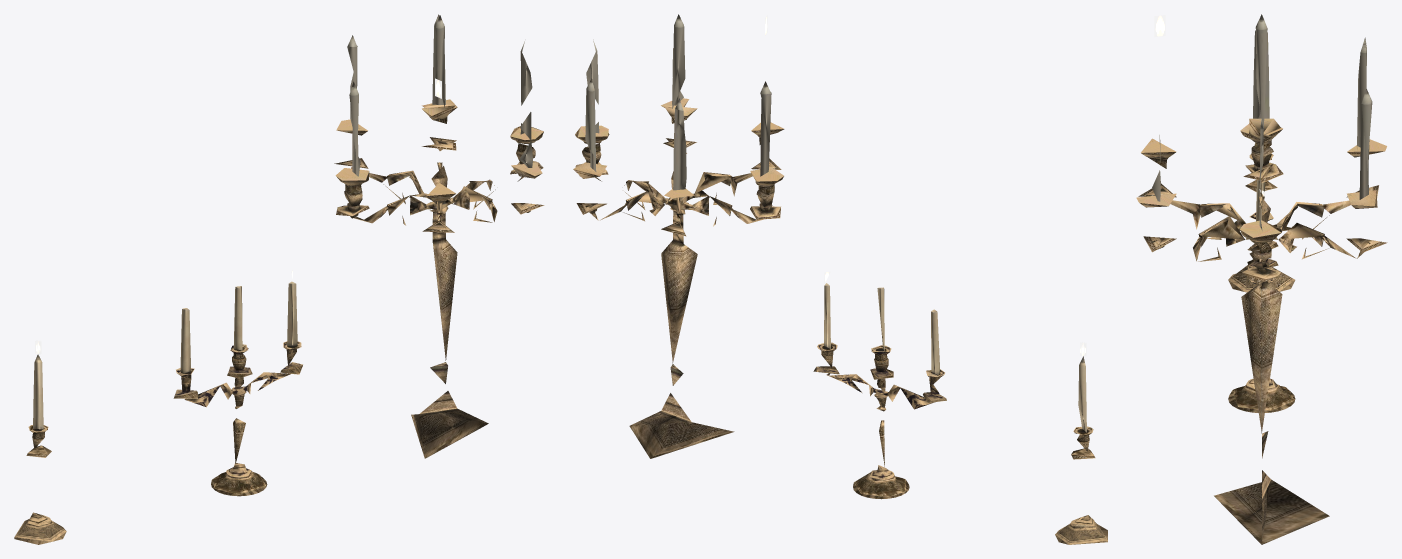
Rendered from brass_candleholders.glb.
3 renders of one model, left to right at view 1: azimuth 30°, elevation 25°; view 2: azimuth 150°, elevation 25°; view 3: azimuth 270°, elevation 25°, orthographic. The views are drawn at different scales.
Visible parts, largest first — view 1: brass_candleholder_03, brass_candleholder_02, brass_candleholder_01; view 2: brass_candleholder_03, brass_candleholder_02, brass_candleholder_01; view 3: brass_candleholder_03, brass_candleholder_02, brass_candleholder_01.
Part boxes in pixels (<box>): brass_candleholder_03: <box>334,14,544,458</box>; brass_candleholder_02: <box>173,270,302,496</box>; brass_candleholder_01: <box>14,340,66,544</box>; brass_candleholder_03: <box>573,14,784,458</box>; brass_candleholder_02: <box>813,271,946,499</box>; brass_candleholder_01: <box>1055,342,1107,544</box>; brass_candleholder_03: <box>1136,14,1387,544</box>; brass_candleholder_02: <box>1228,180,1295,412</box>; brass_candleholder_01: <box>1228,153,1295,292</box>.
Size of the model in its own units: 1.05 by 0.8018 by 0.3639.
Materials: 5 (5 with a texture image).
